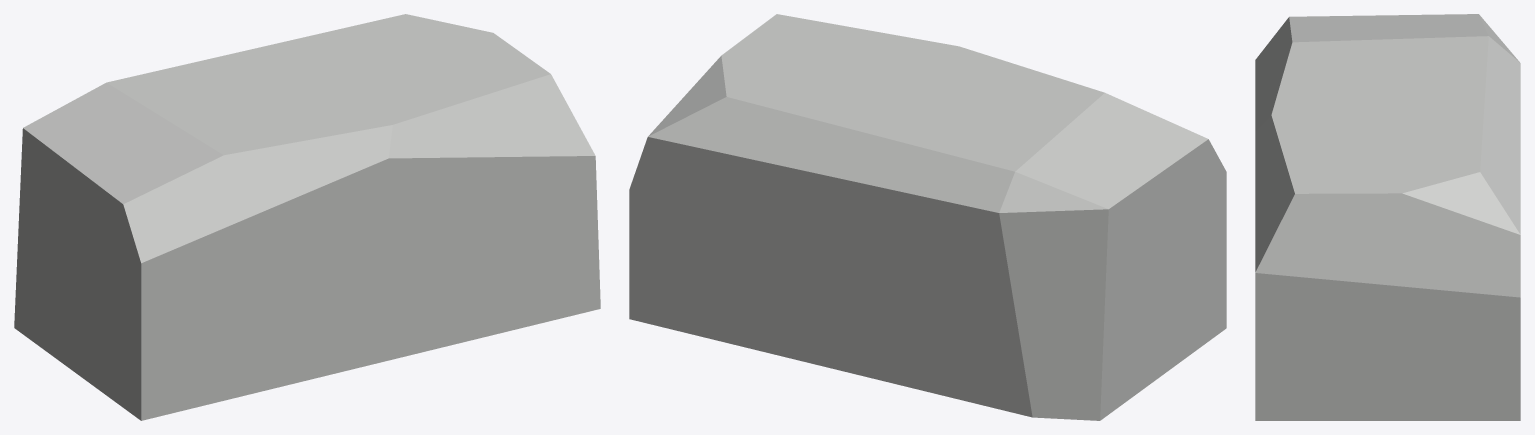
The model's file is Rock_Block_m_12.fbx.
3 views of the same model, side by side, from view 1: azimuth 30°, elevation 25°; view 2: azimuth 150°, elevation 25°; view 3: azimuth 270°, elevation 25° (orthographic). The views are drawn at different scales.
Parts seen in each view (by area): view 1: Rock_Block_m_12; view 2: Rock_Block_m_12; view 3: Rock_Block_m_12.
Boxes of the visible parts, x1,y1,x2,y2 form: Rock_Block_m_12: (14, 14, 600, 420); Rock_Block_m_12: (629, 14, 1226, 420); Rock_Block_m_12: (1255, 14, 1520, 420).
Size of the model in its own units: 131 by 61.6 by 69.3.
